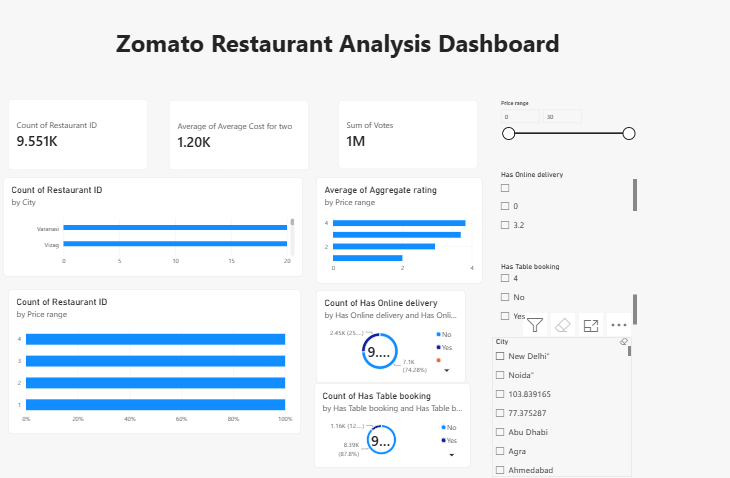

This screenshot's page, from the dashboard's own definition file:
{"tool":"powerbi","page":{"name":"Page 1","canvas":[1920,1080],"ordinal":0},"visuals":[{"type":"cardVisual","fields":{"Data":["CountNonNull(Zomato.Restaurant ID)"]},"box":[25.5,193.5,357.2,142.4],"z":0},{"type":"cardVisual","fields":{"Data":["Avg(Zomato.Average Cost for two)"]},"box":[403.9,195.6,350.8,140.3],"z":1000},{"type":"cardVisual","fields":{"Data":["Sum(Zomato.Votes)"]},"box":[788.7,197.7,376.3,138.2],"z":2000},{"type":"donutChart","fields":{"Category":["Zomato.Has Online delivery"],"Series":["Zomato.Has Online delivery"],"Y":["CountNonNull(Zomato.Has Online delivery)"]},"box":[639.9,612.3,599.5,231.7],"z":4000},{"type":"donutChart","fields":{"Category":["Zomato.Has Table booking"],"Series":["Zomato.Has Table booking"],"Y":["CountNonNull(Zomato.Has Table booking)"]},"box":[639.9,875.9,582.5,204.1],"z":5000},{"type":"barChart","fields":{"Category":["Zomato.City"],"Y":["CountNonNull(Zomato.Restaurant ID)"]},"box":[19.1,355,599.5,284.9],"z":6000},{"type":"clusteredBarChart","fields":{"Category":["Zomato.Price range"],"Y":["Avg(Zomato.Aggregate rating)"]},"box":[639.9,355,599.5,240.2],"z":7000},{"type":"slicer","fields":{"Values":["Zomato.City"]},"box":[1311.7,765.4,280.6,314.6],"z":8000},{"type":"slicer","fields":{"Values":["Zomato.Price range"]},"box":[1239.4,204.1,423.1,121.2],"z":9000},{"type":"slicer","fields":{"Values":["Zomato.Has Online delivery"]},"box":[1309.6,355,280,128.8],"z":10000},{"type":"slicer","fields":{"Values":["Zomato.Has Table booking"]},"box":[1309.6,531.5,280.6,214.7],"z":11000},{"type":"hundredPercentStackedBarChart","fields":{"Category":["Zomato.Price range"],"Y":["CountNonNull(Zomato.Restaurant ID)"]},"box":[25.5,701.6,593.1,378.4],"z":12000},{"type":"textbox","box":[128,68,1112,92],"z":13000}]}

Visuals, with their boxes on the page's 1920x1080 design canvas (x1, y1, x2, y2). These are canvas units, not pixel positions in the 730x478 screenshot, which may show the page scaled, cropped or inside an application window:
cardVisual - CountNonNull(Zomato.Restaurant ID): (left=26, top=194, right=383, bottom=336)
cardVisual - Avg(Zomato.Average Cost for two): (left=404, top=196, right=755, bottom=336)
cardVisual - Sum(Zomato.Votes): (left=789, top=198, right=1165, bottom=336)
donutChart - Zomato.Has Online delivery x Zomato.Has Online delivery: (left=640, top=612, right=1239, bottom=844)
donutChart - Zomato.Has Table booking x Zomato.Has Table booking: (left=640, top=876, right=1222, bottom=1080)
barChart - Zomato.City x CountNonNull(Zomato.Restaurant ID): (left=19, top=355, right=619, bottom=640)
clusteredBarChart - Zomato.Price range x Avg(Zomato.Aggregate rating): (left=640, top=355, right=1239, bottom=595)
slicer - Zomato.City: (left=1312, top=765, right=1592, bottom=1080)
slicer - Zomato.Price range: (left=1239, top=204, right=1662, bottom=325)
slicer - Zomato.Has Online delivery: (left=1310, top=355, right=1590, bottom=484)
slicer - Zomato.Has Table booking: (left=1310, top=532, right=1590, bottom=746)
hundredPercentStackedBarChart - Zomato.Price range x CountNonNull(Zomato.Restaurant ID): (left=26, top=702, right=619, bottom=1080)
textbox: (left=128, top=68, right=1240, bottom=160)
